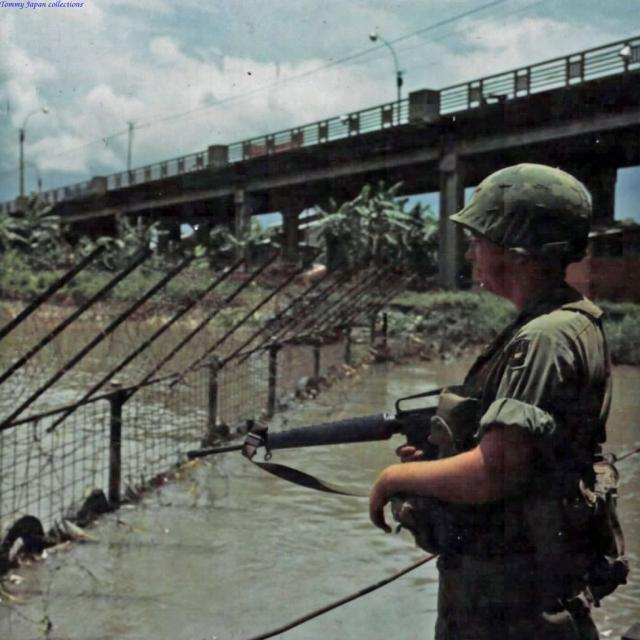weapon: (190, 382, 456, 465)
